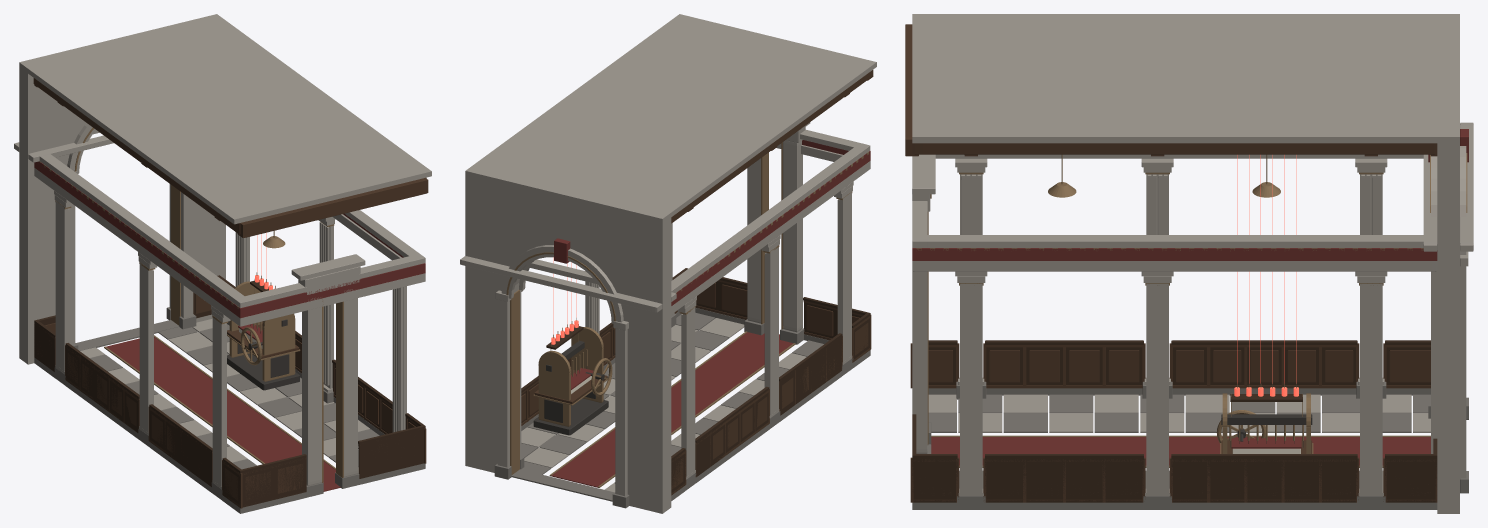
Rendered from entry.glb.
3 views of the same model, side by side, from view 1: azimuth 30°, elevation 25°; view 2: azimuth 150°, elevation 25°; view 3: azimuth 270°, elevation 25° (orthographic). The views are drawn at different scales.
Visible parts, largest first — view 1: m1_entry; view 2: m1_entry; view 3: m1_entry.
Boxes of the visible parts, bbox=[...] form: m1_entry: bbox=[14, 14, 431, 513]; m1_entry: bbox=[460, 14, 876, 513]; m1_entry: bbox=[905, 14, 1473, 513].
Size of the model in its own units: 6.4 by 9.15 by 12.5.
